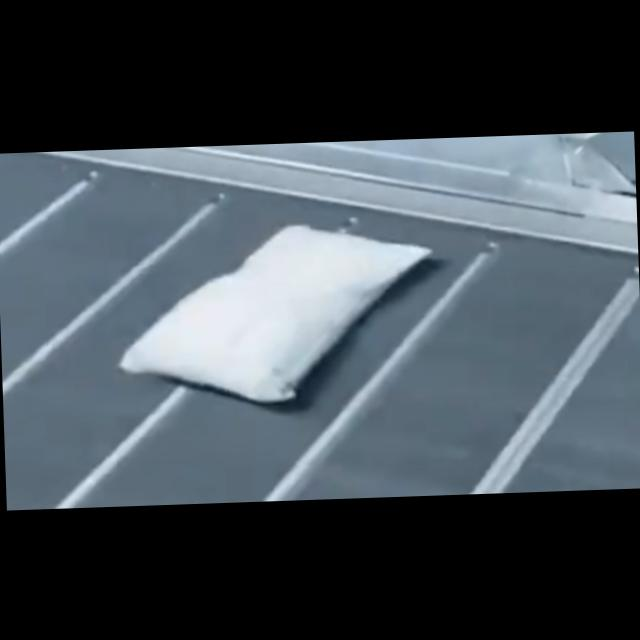mailer: (111, 216, 428, 407)
